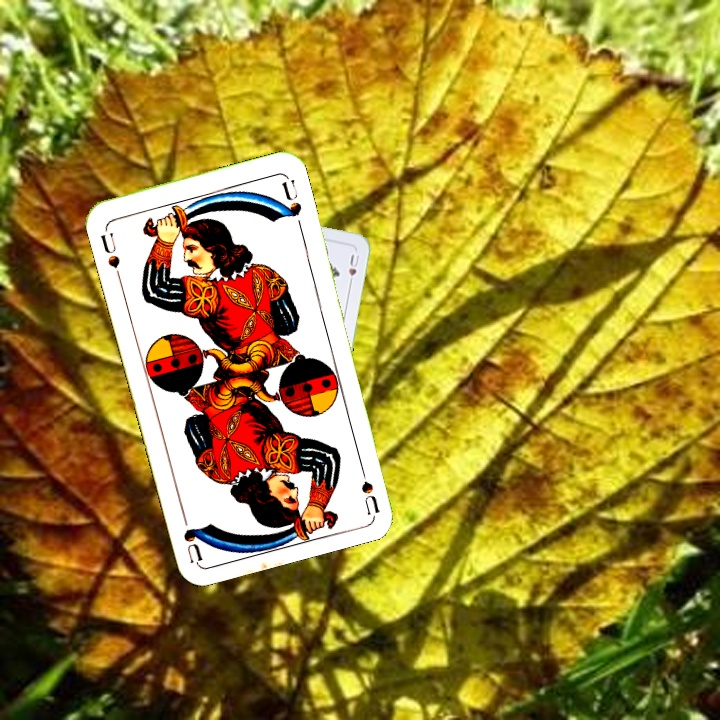SU: (354, 455, 382, 515), (96, 228, 124, 282)
